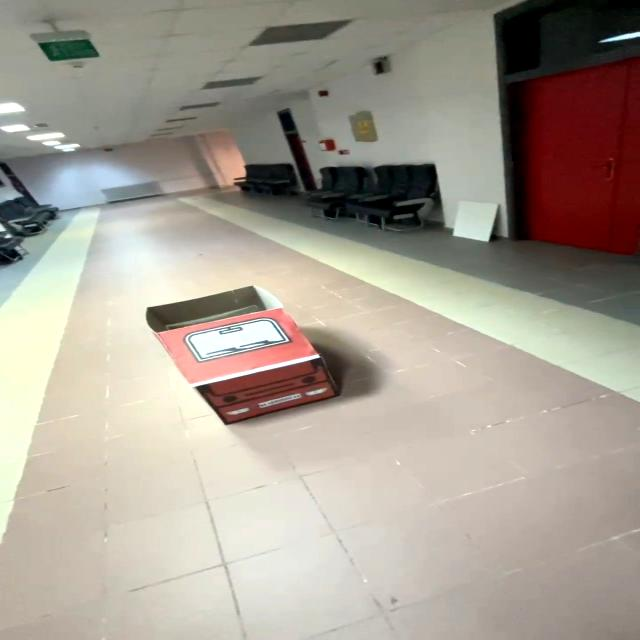red_car: (123, 275, 367, 439)
